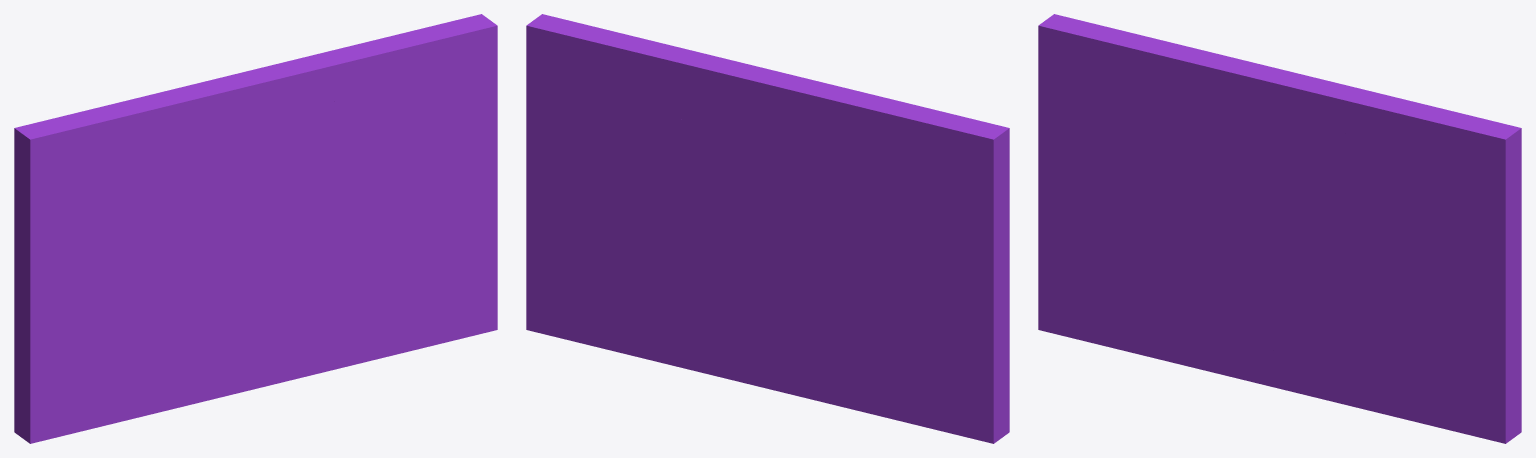
File: Barrier_105_chunks.fbx
The picture shows the model from 3 angles, left to right: view 1: azimuth 30°, elevation 25°; view 2: azimuth 150°, elevation 25°; view 3: azimuth 330°, elevation 25°; orthographic projection.
Parts seen in each view (by area): view 1: Barrier_105_2, Barrier_105_0, Barrier_105_3, Barrier_105_6, Barrier_105_1, Barrier_105_4; view 2: Barrier_105_2, Barrier_105_0, Barrier_105_1, Barrier_105_6, Barrier_105_5, Barrier_105_4, Barrier_105_3; view 3: Barrier_105_2, Barrier_105_0, Barrier_105_3, Barrier_105_6, Barrier_105_1, Barrier_105_4.
Boxes of the visible parts, x1,y1,x2,y2 form: Barrier_105_2: [260, 14, 497, 354]; Barrier_105_0: [14, 199, 276, 443]; Barrier_105_3: [130, 47, 364, 178]; Barrier_105_6: [14, 100, 185, 215]; Barrier_105_1: [259, 273, 394, 387]; Barrier_105_4: [171, 123, 321, 225]; Barrier_105_2: [526, 14, 740, 339]; Barrier_105_0: [779, 188, 1009, 443]; Barrier_105_1: [566, 219, 802, 396]; Barrier_105_6: [836, 103, 1009, 233]; Barrier_105_5: [642, 52, 849, 188]; Barrier_105_4: [695, 142, 853, 241]; Barrier_105_3: [653, 47, 908, 143]; Barrier_105_2: [1268, 100, 1521, 443]; Barrier_105_0: [1038, 86, 1284, 385]; Barrier_105_3: [1138, 42, 1394, 150]; Barrier_105_6: [1038, 14, 1193, 169]; Barrier_105_1: [1267, 279, 1402, 418]; Barrier_105_4: [1179, 140, 1329, 222].
Bounding box in the file's own units: 462 × 288 × 27.2.
